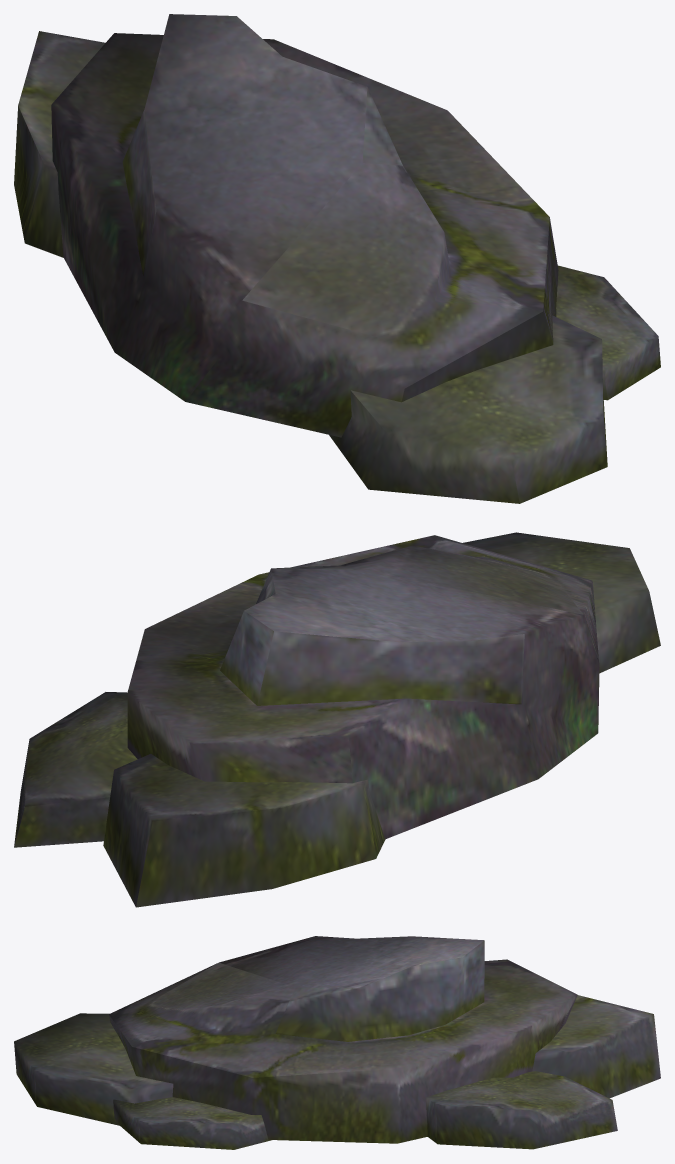
Rendered from yw_langhuanfudi_shikuai01.FBX.
3 views of the same model, one above another, from view 1: azimuth 30°, elevation 25°; view 2: azimuth 150°, elevation 25°; view 3: azimuth 270°, elevation 25° (orthographic). The views are drawn at different scales.
Visible parts, largest first — view 1: yw_langhuanfudi_shikuai01; view 2: yw_langhuanfudi_shikuai01; view 3: yw_langhuanfudi_shikuai01.
Part boxes in pixels (x1,y1,x2,y2): yw_langhuanfudi_shikuai01: [14, 14, 660, 503]; yw_langhuanfudi_shikuai01: [14, 532, 660, 907]; yw_langhuanfudi_shikuai01: [14, 936, 660, 1149].
Bounding box in the file's own units: 207 × 103 × 436.
